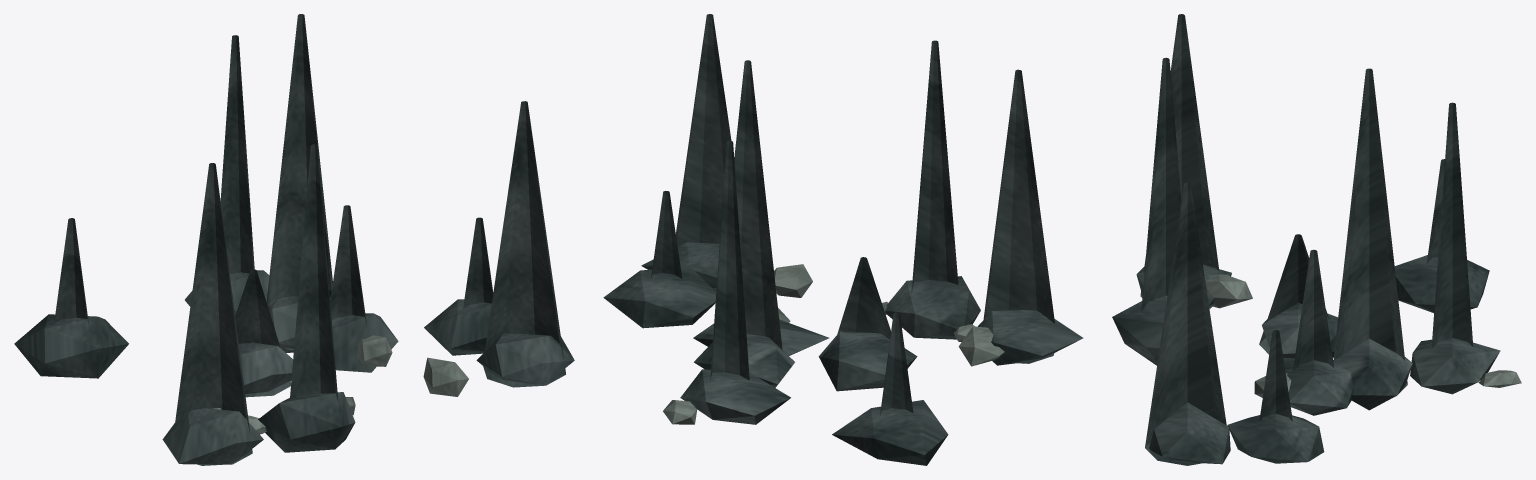
Rendered from 0077_stalagmites_02.glb.
The picture shows the model from 3 angles, left to right: view 1: azimuth 30°, elevation 25°; view 2: azimuth 150°, elevation 25°; view 3: azimuth 270°, elevation 25°; orthographic projection. The views are drawn at different scales.
Parts seen in each view (by area): view 1: stone_dark, stone; view 2: stone_dark, stone; view 3: stone_dark, stone.
Part boxes in pixels (x1,y1,x2,y2): stone_dark: (14,14,574,465); stone: (212,335,468,434); stone_dark: (603,14,1083,465); stone: (663,264,1004,424); stone_dark: (1112,14,1500,465); stone: (1205,274,1521,397).
Size of the model in its own units: 2.78 by 2.12 by 2.39.
2 materials, 2 textured.
